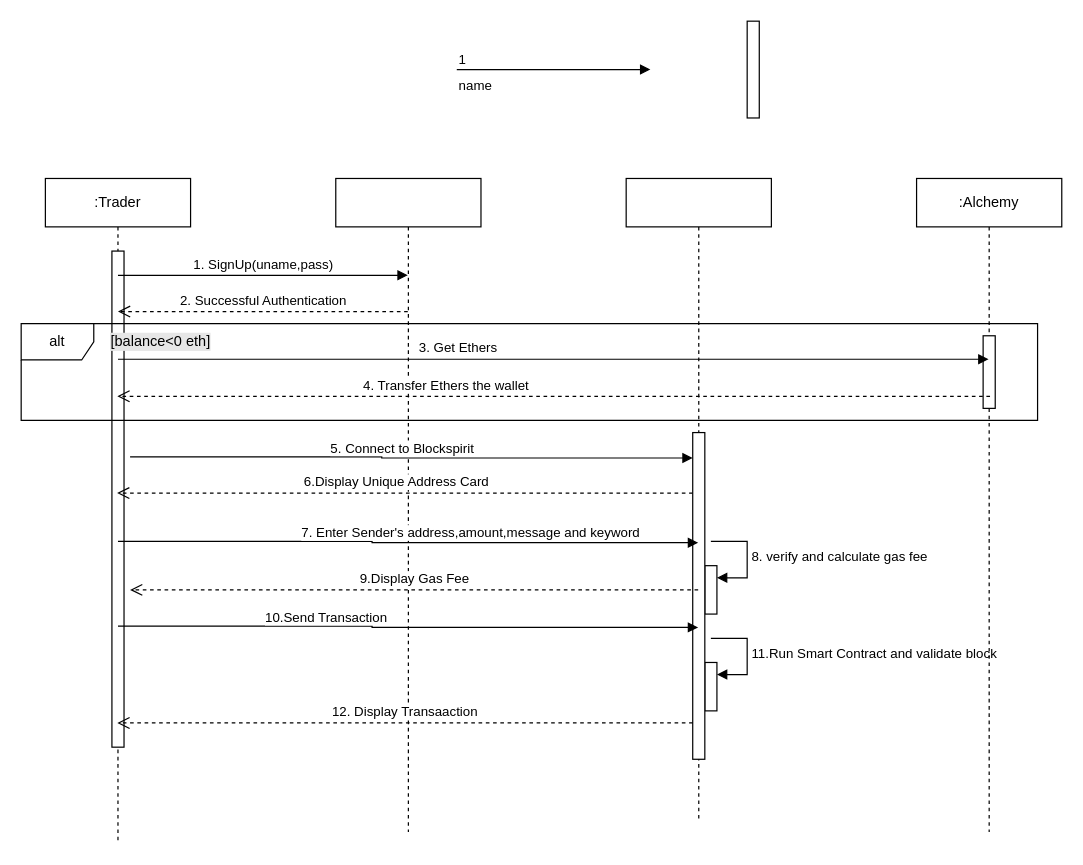
The diagram is 1083 pixels wide and 865 high, and some of its shapes have lost their labels. The box of each missing label's shape, as (x1, y1, x2, y2) in pixels:
:BlockSpirit: (625, 177, 771, 820)
:Metamask: (335, 177, 481, 832)
